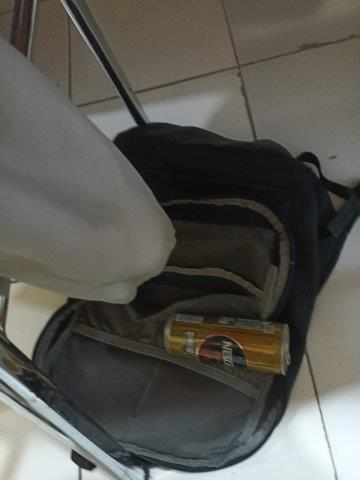kaleng: (163, 313, 290, 374)
